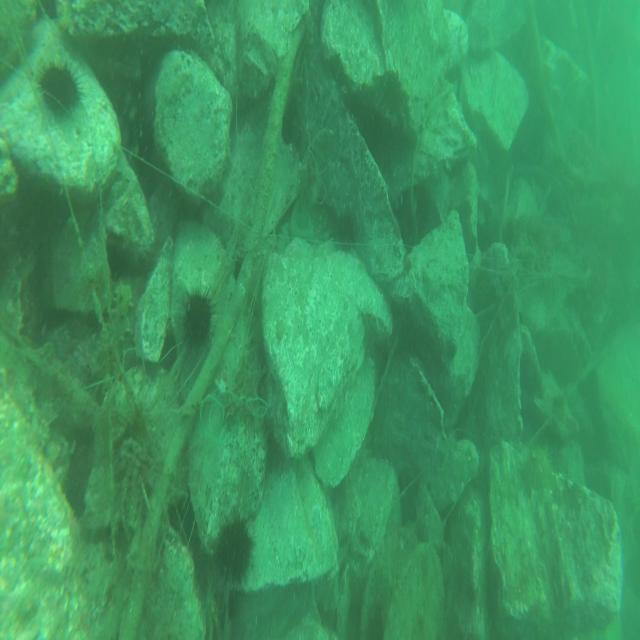echinus: (208, 508, 254, 596), (32, 55, 89, 122), (174, 282, 216, 356), (520, 438, 556, 506)
holothurian: (88, 279, 135, 388)
